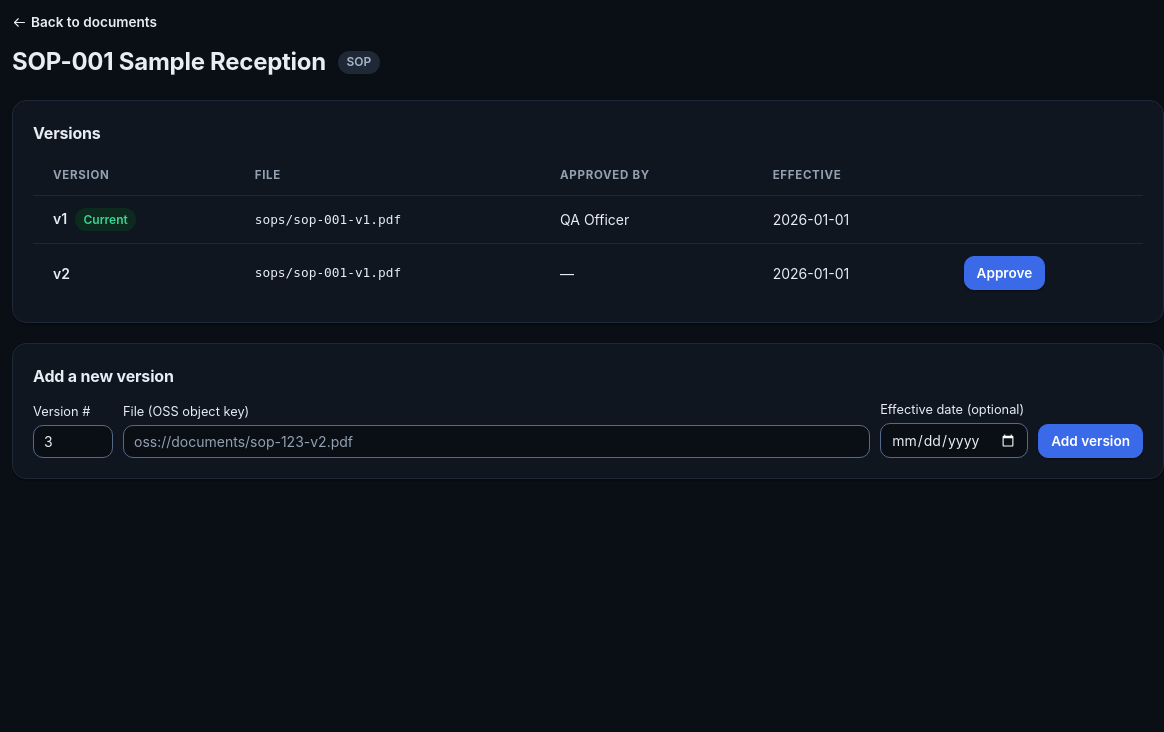
Test: approving a version › surfaces the server's rejection
Expected: the heading "SOP-001 Sample Reception" is shown, x1=12 y1=44 x2=326 y2=80
Step 1. Click the button "Approve" → (1004, 273), box x1=964 y1=256 x2=1045 y2=290
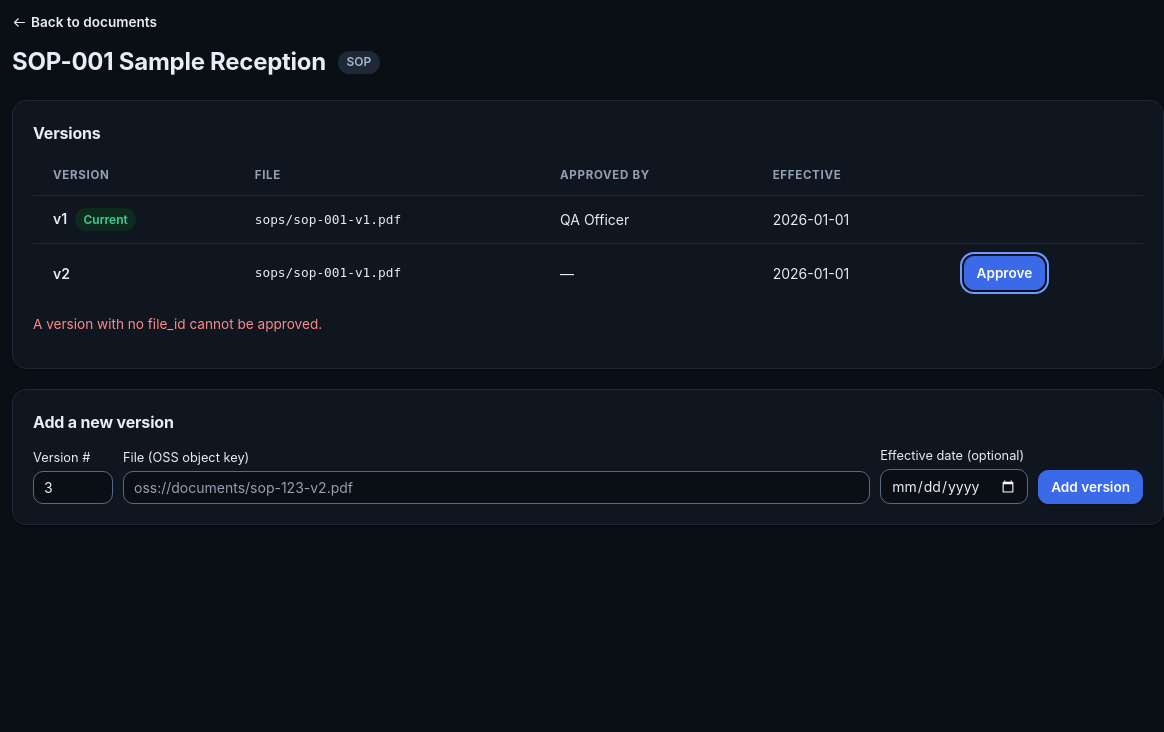
Expected: the text "A version with no file_id cannot be approved." is shown, x1=33 y1=316 x2=322 y2=332
